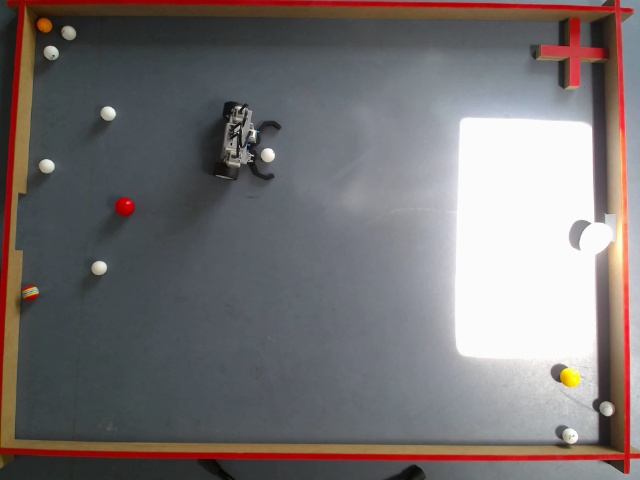big_goal: (2, 189, 24, 249)
cross: (536, 18, 608, 90)
egg: (580, 222, 612, 252)
orange: (37, 18, 50, 33)
robot: (212, 99, 282, 180)
wall: (0, 437, 638, 458), (600, 0, 628, 471)
white: (42, 45, 59, 60), (38, 159, 54, 174), (562, 429, 578, 444), (100, 105, 115, 120), (90, 260, 106, 273), (600, 402, 614, 416), (62, 26, 75, 39), (261, 149, 274, 161)
